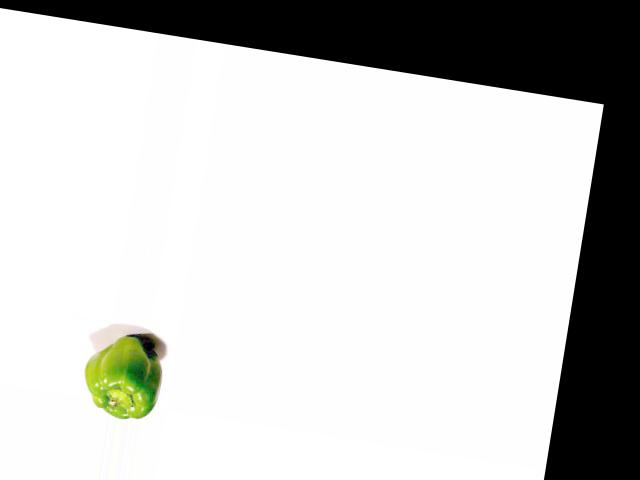bell_pepper: (75, 324, 170, 423)
